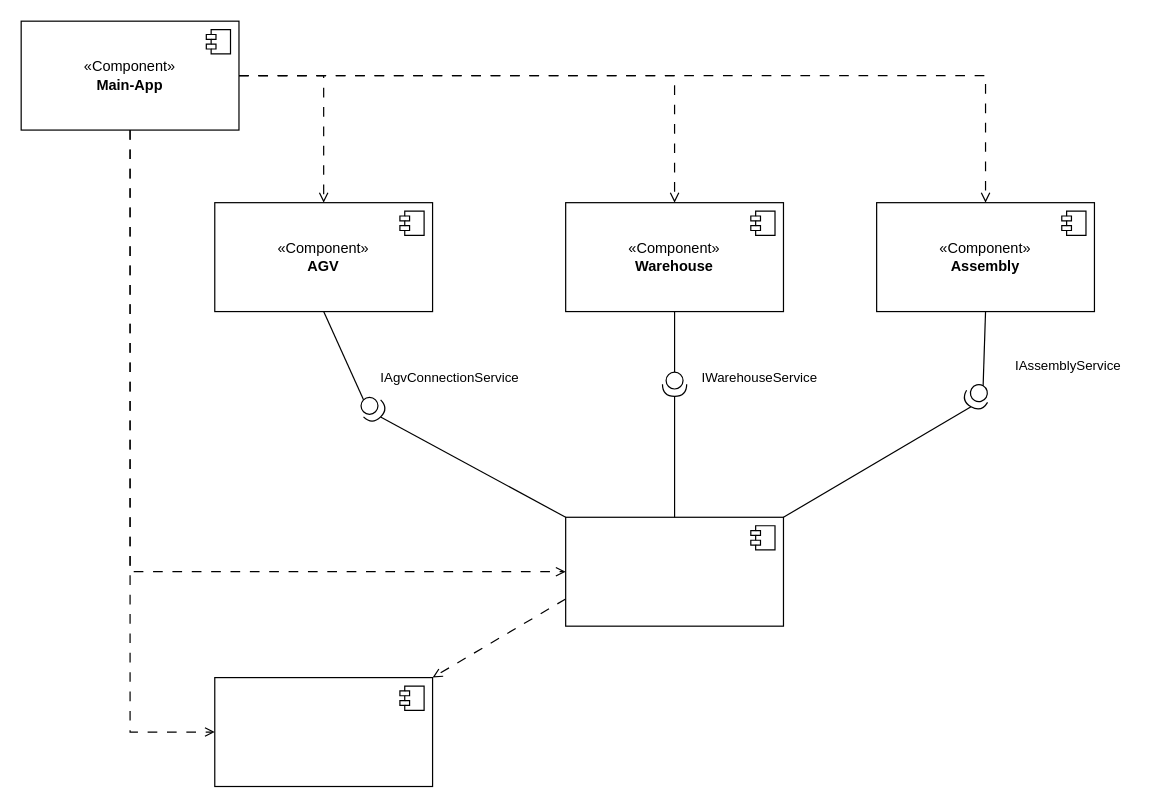
Some shapes in this 1156 by 808 pixel diagram are drawn without their labels. Each missing label, with the centre of its shape:
«Component» Product: the point at 323,731
«Component» Production: the point at 673,571
